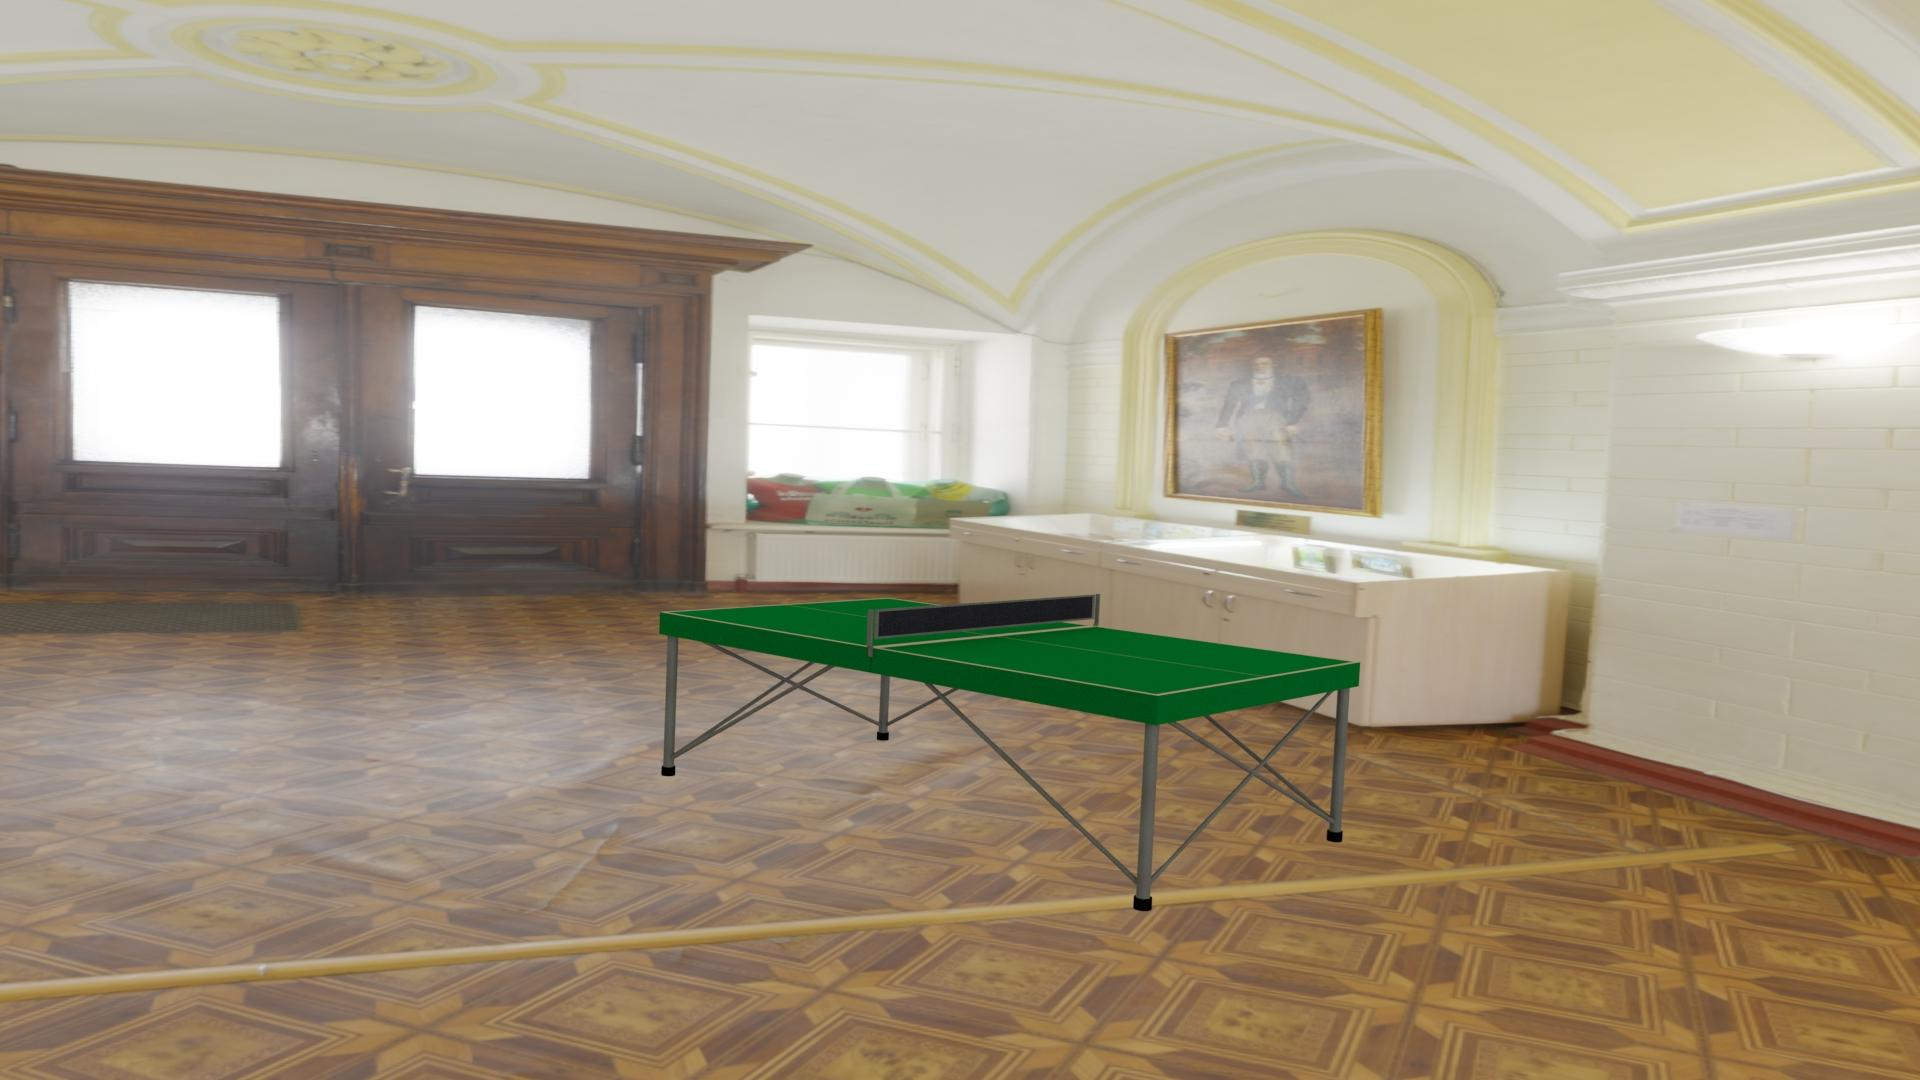table: (666, 599, 1354, 695)
